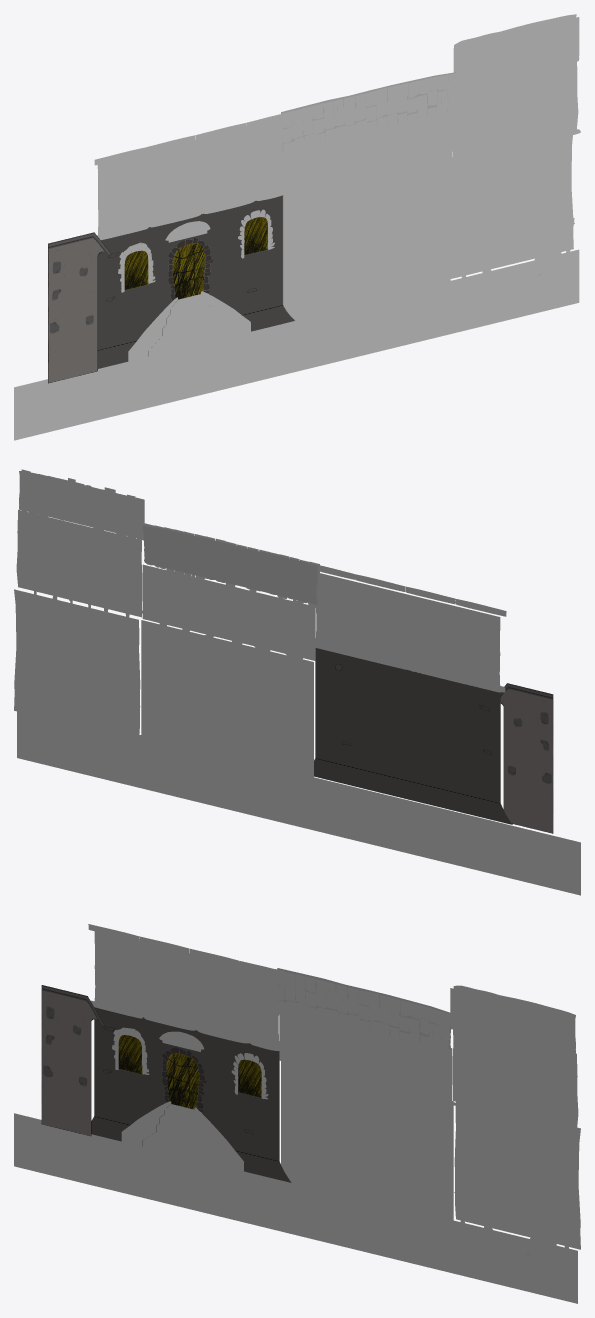
The model's file is Level2A_037.fbx.
The picture shows the model from 3 angles, top to bottom: view 1: azimuth 30°, elevation 25°; view 2: azimuth 150°, elevation 25°; view 3: azimuth 330°, elevation 25°; orthographic projection.
Visible parts, largest first — view 1: Plane, Plane.012, L_BuildingBase, Plane.009, Plane.027, OutsideHouse, Plane.013, Plane.021, Circle.002, Plane.020, Plane.000, Rock_001.002 (+23 smaller); view 2: Plane, L_BuildingBase, Plane.012, Plane.027, Plane.009, Plane.021, Plane.013, OutsideHouse, roofM_TOP, Plane.022, Plane.011; view 3: Plane, Plane.012, L_BuildingBase, Plane.009, Plane.027, OutsideHouse, Plane.013, Plane.021, Circle.002, Plane.020, Plane.000, Rock_001.002 (+23 smaller).
Part boxes in pixels (left/top/right/bottom): Plane: left=14, top=249, right=579, bottom=440; Plane.012: left=283, top=166, right=450, bottom=318; L_BuildingBase: left=98, top=195, right=295, bottom=368; Plane.009: left=97, top=120, right=282, bottom=234; Plane.027: left=450, top=135, right=573, bottom=278; OutsideHouse: left=48, top=232, right=110, bottom=383; Plane.013: left=282, top=111, right=452, bottom=203; Plane.021: left=452, top=55, right=578, bottom=160; Circle.002: left=455, top=184, right=574, bottom=316; Plane.020: left=456, top=17, right=579, bottom=87; Plane.000: left=282, top=72, right=458, bottom=143; Rock_001.002: left=333, top=221, right=396, bottom=309; Plane: left=17, top=711, right=580, bottom=895; L_BuildingBase: left=314, top=648, right=512, bottom=824; Plane.012: left=141, top=620, right=313, bottom=781; Plane.027: left=14, top=589, right=140, bottom=740; Plane.009: left=315, top=572, right=500, bottom=692; Plane.021: left=16, top=509, right=142, bottom=617; Plane.013: left=142, top=564, right=315, bottom=660; OutsideHouse: left=500, top=683, right=553, bottom=833; roofM_TOP: left=143, top=526, right=317, bottom=604; Plane.022: left=19, top=471, right=141, bottom=538; Plane.011: left=313, top=564, right=506, bottom=616; Plane: left=14, top=1113, right=577, bottom=1303; Plane.012: left=281, top=1061, right=453, bottom=1220; L_BuildingBase: left=91, top=1007, right=291, bottom=1182; Plane.009: left=94, top=931, right=279, bottom=1047; Plane.027: left=454, top=1101, right=580, bottom=1249; OutsideHouse: left=41, top=985, right=104, bottom=1136; Plane.013: left=279, top=1011, right=452, bottom=1101; Plane.021: left=452, top=1027, right=578, bottom=1130; Circle.002: left=454, top=1155, right=573, bottom=1286; Plane.020: left=450, top=988, right=573, bottom=1061; Plane.000: left=275, top=969, right=450, bottom=1039; Rock_001.002: left=329, top=1116, right=392, bottom=1206.
Bounding box in the file's own units: 1647 × 810 × 63.67.
